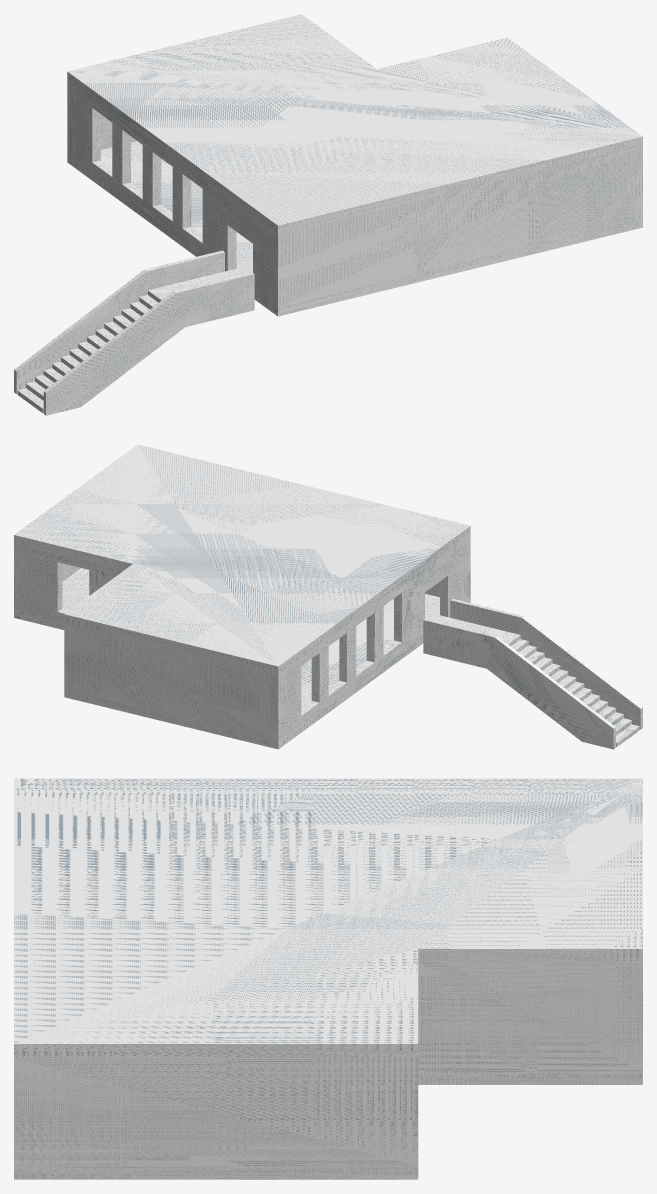
File: The Stolen Art Gallery.dae
3 views of the same model, one above another, from view 1: azimuth 30°, elevation 25°; view 2: azimuth 150°, elevation 25°; view 3: azimuth 270°, elevation 25° (orthographic). The views are drawn at different scales.
Visible parts, largest first — view 1: instance_0, instance_3 (×5), instance_21, instance_1, instance_19, instance_20; view 2: instance_0, instance_3 (×5), instance_19, instance_1, instance_21, instance_20; view 3: instance_0, instance_3, instance_1.
Boxes of the visible parts, box(x1,y1,x2,y2) form: instance_0: box(67, 14, 642, 234); instance_3 (×5): box(67, 81, 642, 307); instance_21: box(43, 272, 254, 415); instance_1: box(67, 141, 642, 316); instance_19: box(14, 250, 224, 393); instance_20: box(17, 271, 234, 413); instance_0: box(14, 444, 470, 674); instance_3 (×5): box(14, 534, 470, 740); instance_19: box(423, 618, 615, 749); instance_1: box(14, 568, 470, 749); instance_21: box(450, 598, 642, 729); instance_20: box(441, 617, 639, 746); instance_0: box(14, 778, 642, 1057); instance_3: box(14, 962, 642, 1166); instance_1: box(14, 1071, 642, 1179).
Bounding box in the file's own units: 1303 × 827 × 335.
